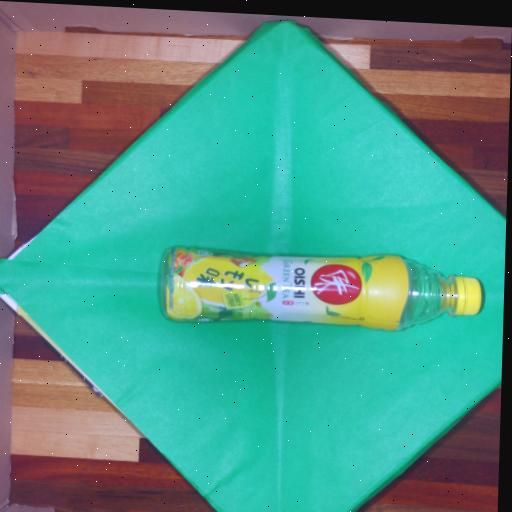bottle: (152, 235, 490, 338)
